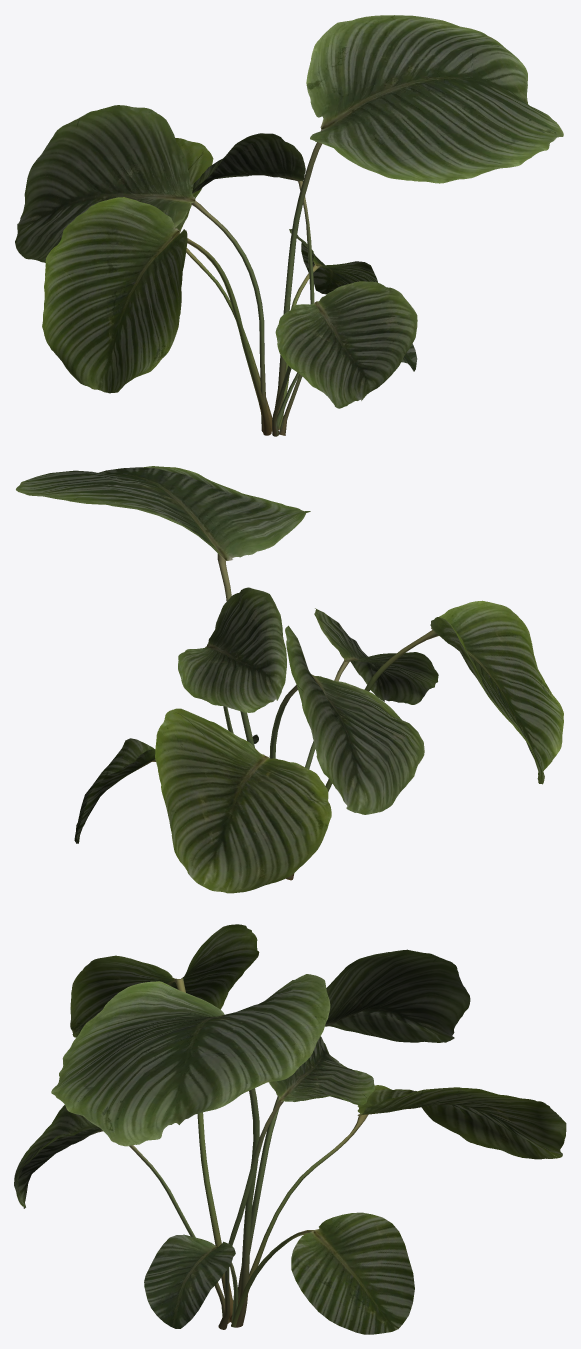
File: coherentCalathea.glb
The picture shows the model from 3 angles, top to bottom: view 1: azimuth 30°, elevation 25°; view 2: azimuth 150°, elevation 25°; view 3: azimuth 270°, elevation 25°; orthographic projection. The views are drawn at different scales.
Parts seen in each view (by area): view 1: calathea_orbifolia_01_a; view 2: calathea_orbifolia_01_a; view 3: calathea_orbifolia_01_a.
Boxes of the visible parts, box(x1,y1,x2,y2) form: calathea_orbifolia_01_a: box(15, 15, 563, 436); calathea_orbifolia_01_a: box(16, 466, 563, 893); calathea_orbifolia_01_a: box(14, 924, 566, 1334).
Bounding box in the file's own units: 0.6006 × 0.4243 × 0.5256.
1 material, 1 textured.
